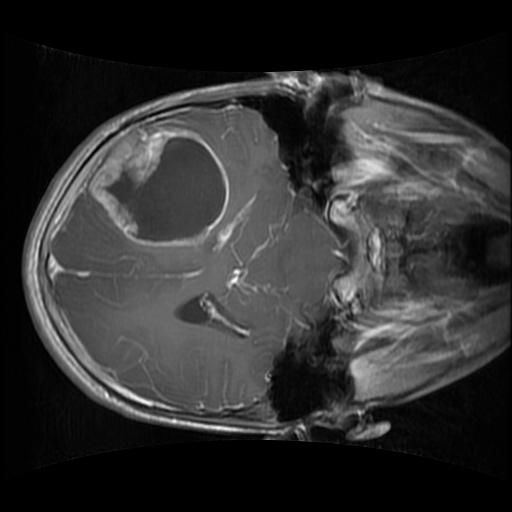glioma: (84, 123, 229, 247)
